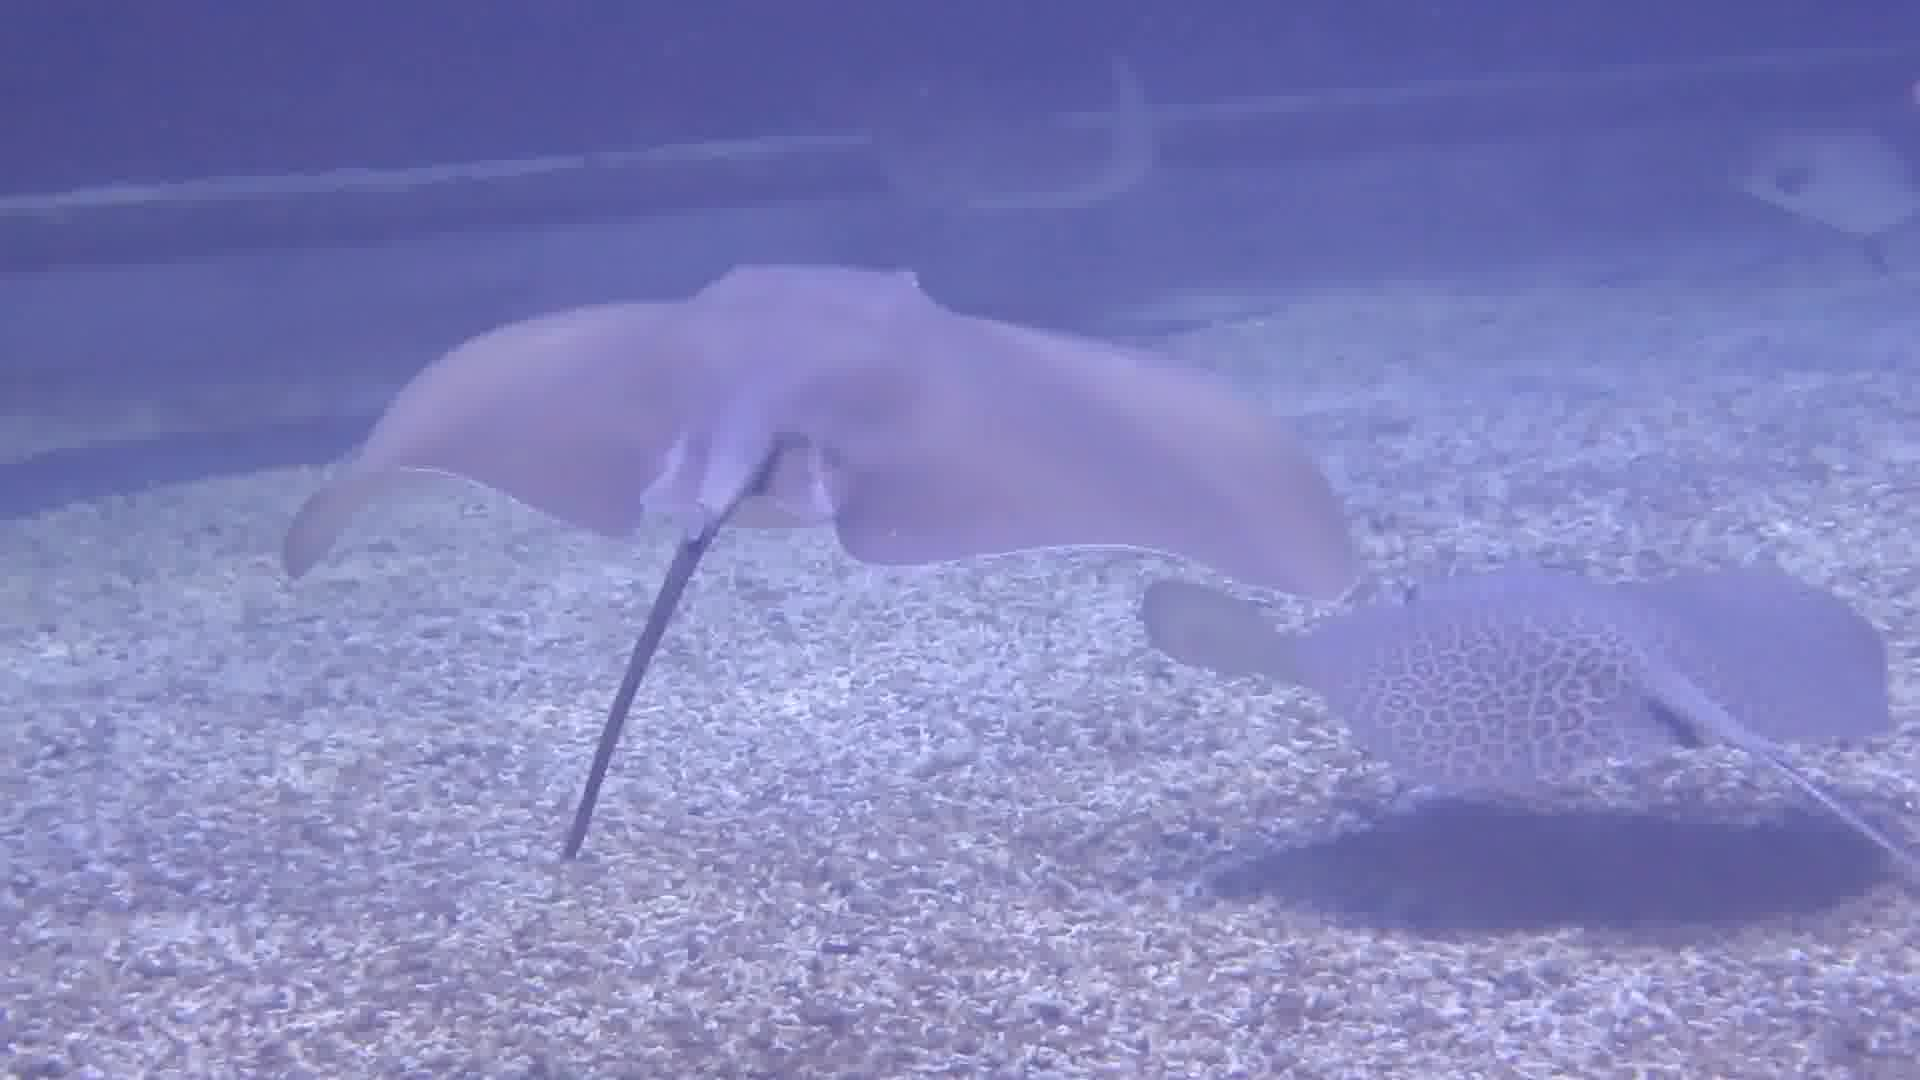Dasyatis akajei: (262, 113, 1418, 972)
